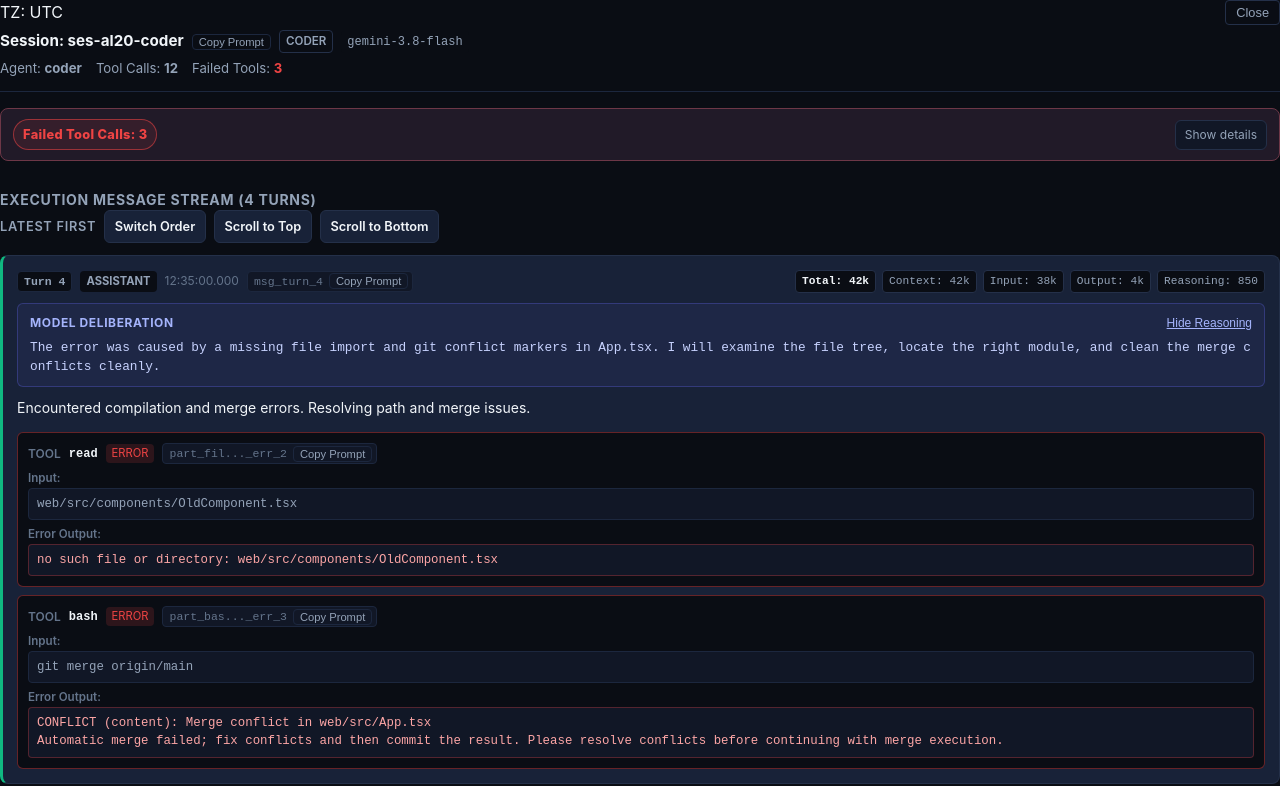
Test case: LiveTraceInspector Component › expands and collapses failed tool details with the toggle button
Click the button with test id "failed-tools-toggle-btn": (1221, 135) x1=1175 y1=120 x2=1267 y2=150
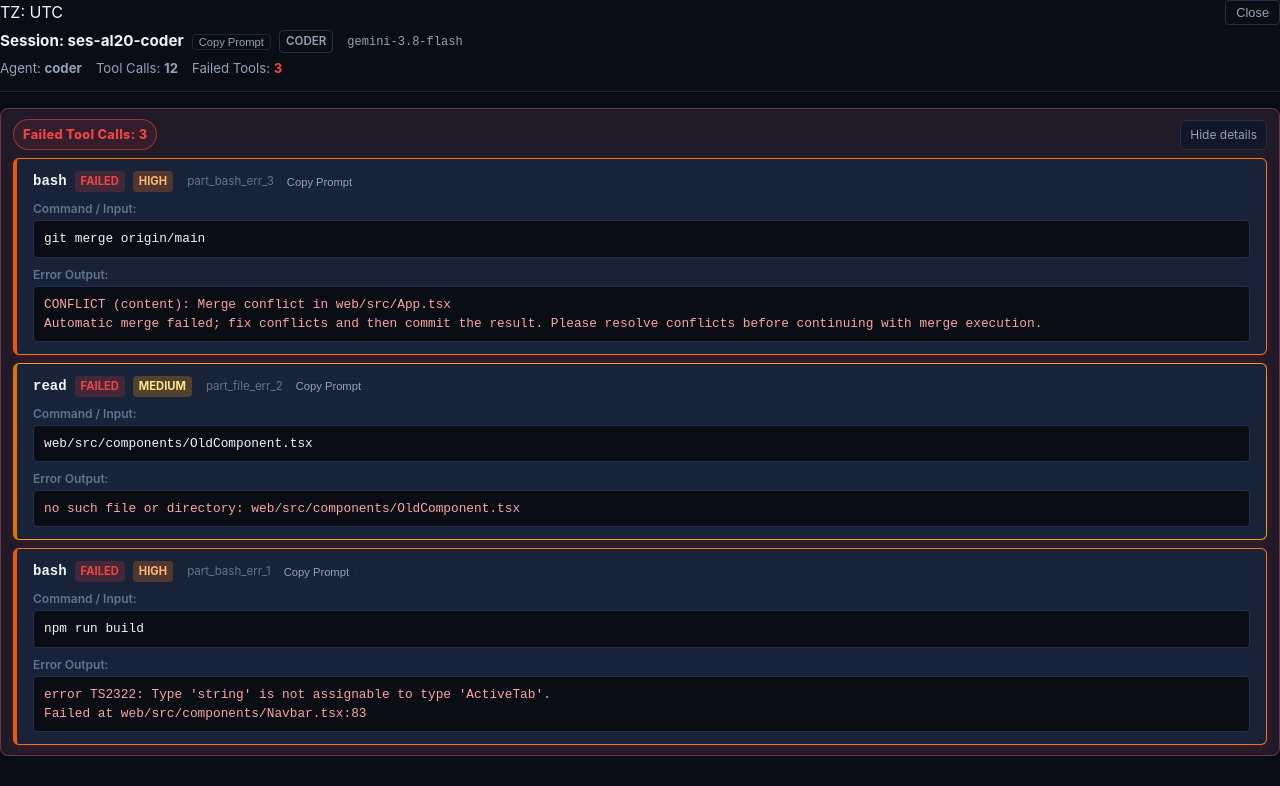
Expected: the button with test id "failed-tools-toggle-btn" is expanded
Click the button with test id "failed-tools-toggle-btn": (1224, 135) x1=1180 y1=120 x2=1267 y2=150
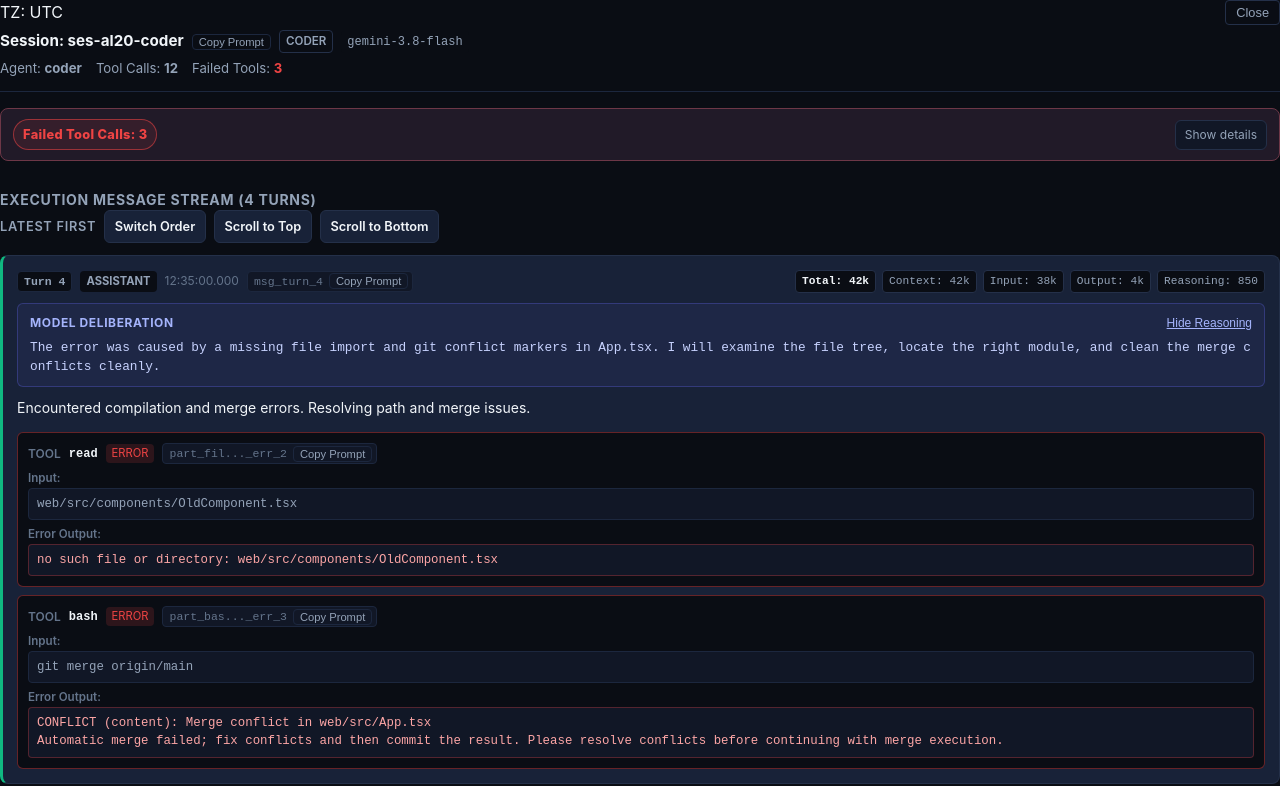
Expected: the button with test id "failed-tools-toggle-btn" is collapsed, x1=1175 y1=120 x2=1267 y2=150
Expected: the element with test id "failed-tool-alert-card" is gone
